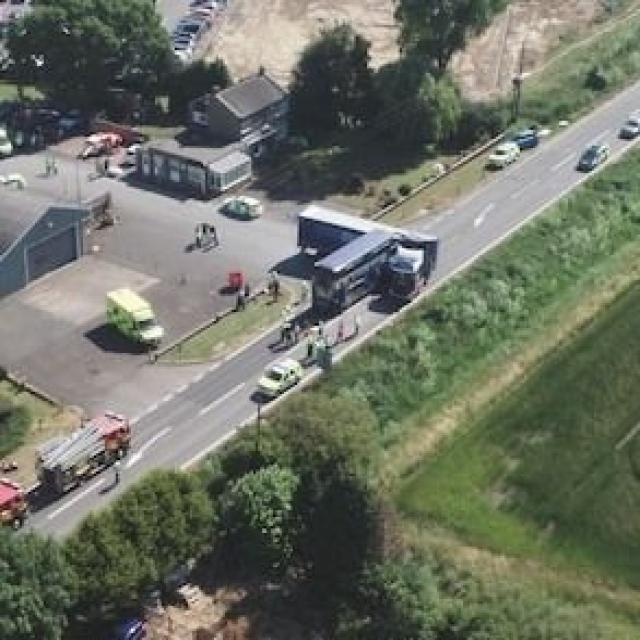traffic_incident: (284, 196, 443, 319)
